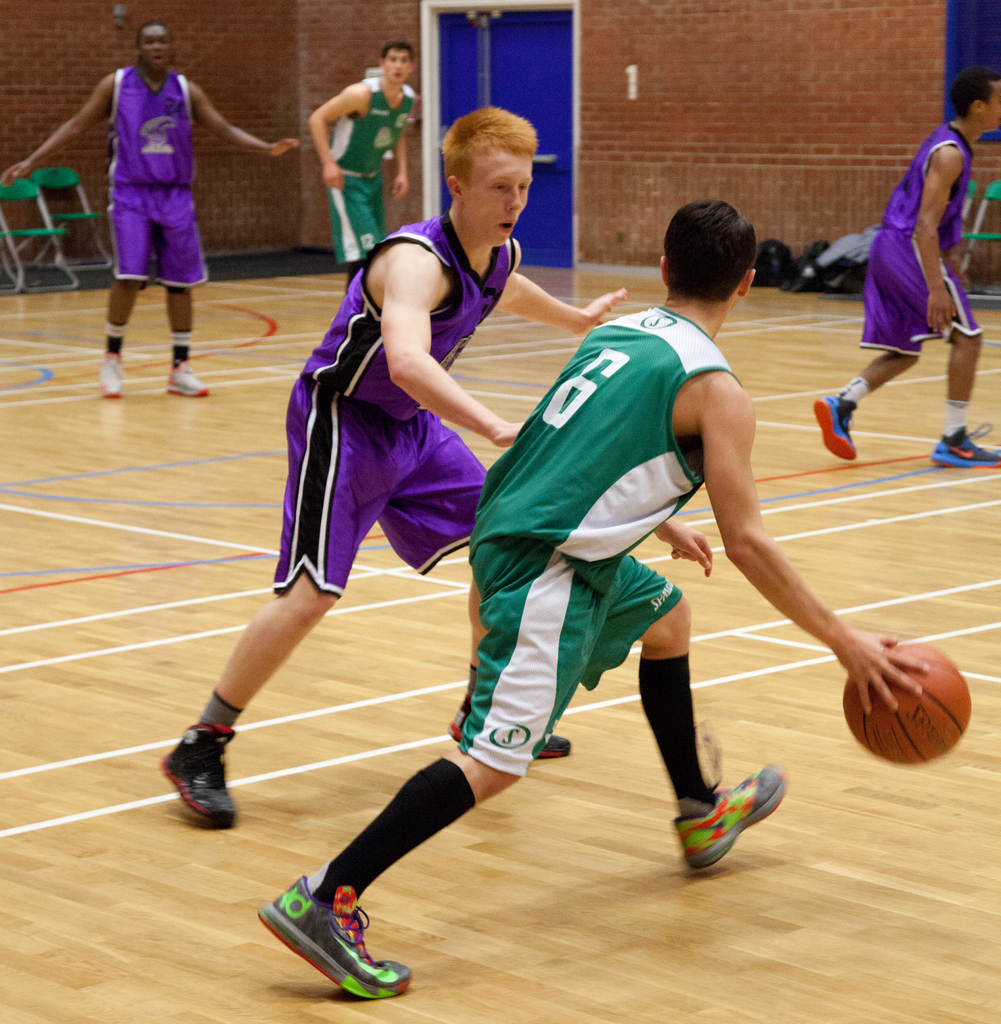Human_hand: (687, 375, 933, 715), (577, 285, 632, 337), (668, 529, 716, 580), (925, 293, 959, 339), (492, 421, 525, 449), (268, 140, 305, 161), (4, 162, 33, 188), (324, 164, 346, 192), (392, 173, 412, 202)
